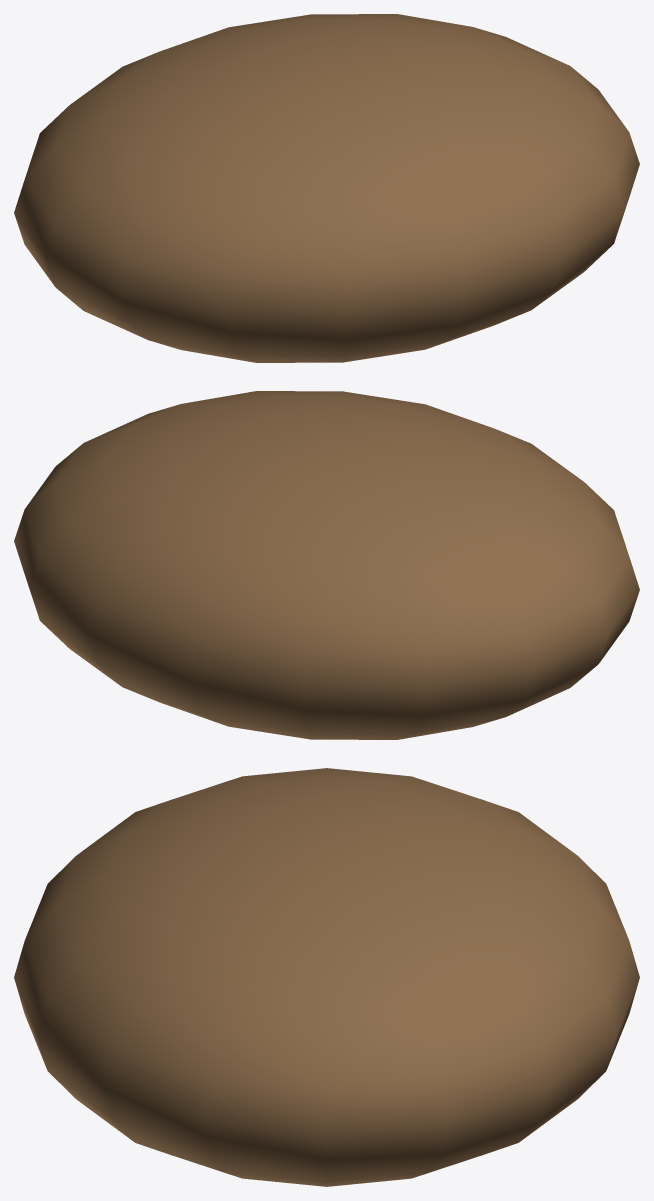
File: dirt_1.glb
The picture shows the model from 3 angles, top to bottom: view 1: azimuth 30°, elevation 25°; view 2: azimuth 150°, elevation 25°; view 3: azimuth 270°, elevation 25°; orthographic projection. The views are drawn at different scales.
Size of the model in its own units: 0.616 by 0.264 by 0.528.
